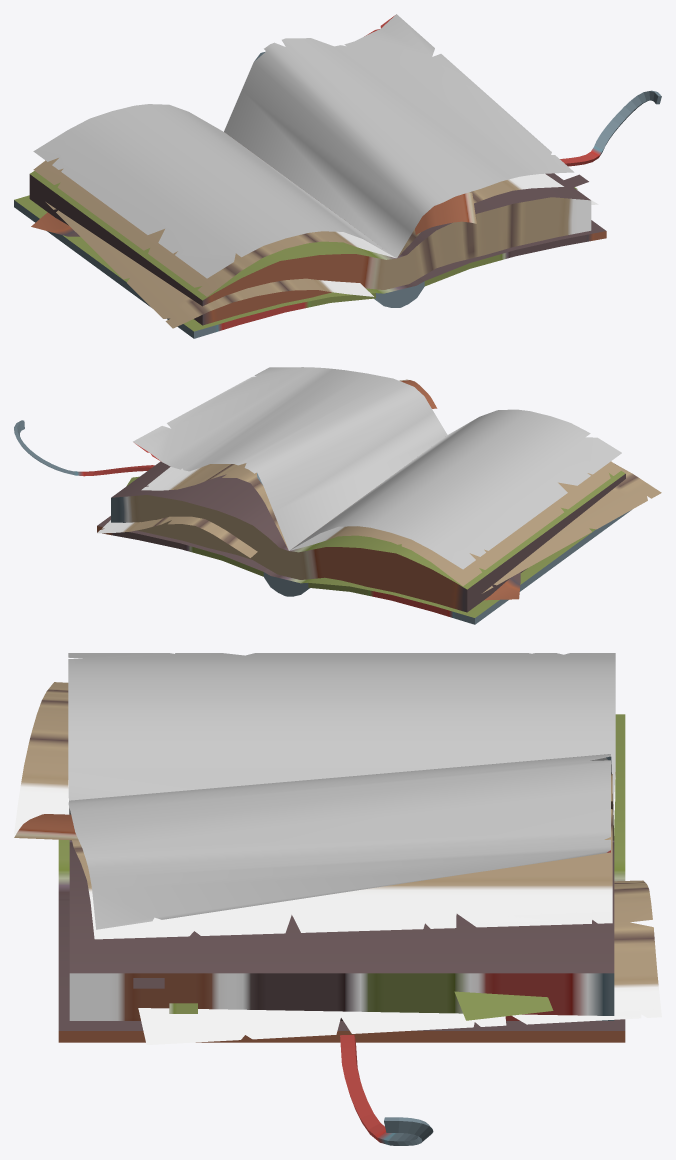
Rendered from Mesh_Room_Book_SM.fbx.
3 views of the same model, one above another, from view 1: azimuth 30°, elevation 25°; view 2: azimuth 150°, elevation 25°; view 3: azimuth 270°, elevation 25° (orthographic). The views are drawn at different scales.
Parts seen in each view (by area): view 1: Mesh_Room_BookPage_02, Mesh_Room_Book, Mesh_Room_BookPage_01; view 2: Mesh_Room_Book, Mesh_Room_BookPage_02, Mesh_Room_BookPage_01; view 3: Mesh_Room_Book, Mesh_Room_BookPage_01, Mesh_Room_BookPage_02.
Part boxes in pixels (x1=…): Mesh_Room_BookPage_02: x1=224, y1=14, x2=574, y2=258; Mesh_Room_Book: x1=14, y1=15, x2=661, y2=338; Mesh_Room_BookPage_01: x1=33, y1=104, x2=395, y2=278; Mesh_Room_Book: x1=14, y1=379, x2=661, y2=624; Mesh_Room_BookPage_02: x1=133, y1=367, x2=447, y2=550; Mesh_Room_BookPage_01: x1=291, y1=409, x2=621, y2=569; Mesh_Room_Book: x1=14, y1=682, x2=661, y2=1145; Mesh_Room_BookPage_01: x1=68, y1=653, x2=615, y2=814; Mesh_Room_BookPage_02: x1=68, y1=754, x2=611, y2=929.
Bounding box in the file's own units: 65.23 × 13.24 × 39.11.
